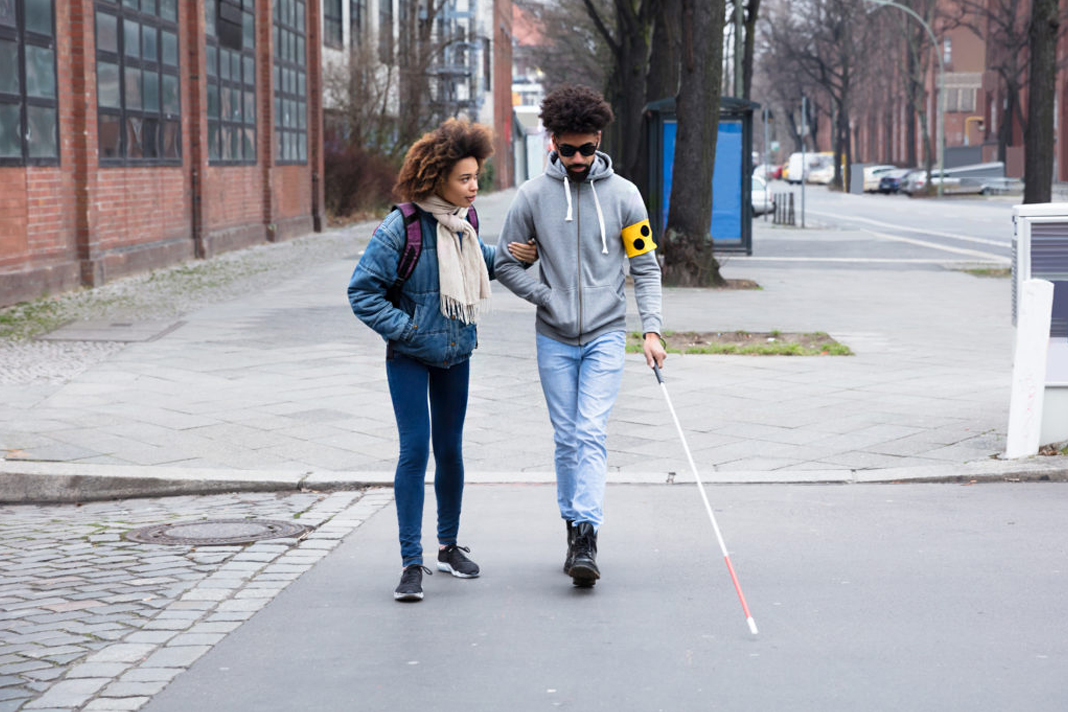Person: (347, 117, 538, 603), (493, 83, 669, 587)
